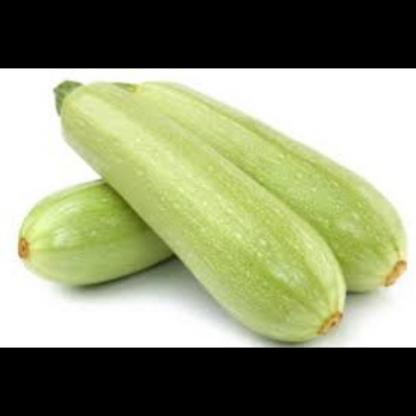vegetable marrow: (50, 76, 350, 347), (120, 67, 415, 284), (10, 175, 174, 292)
